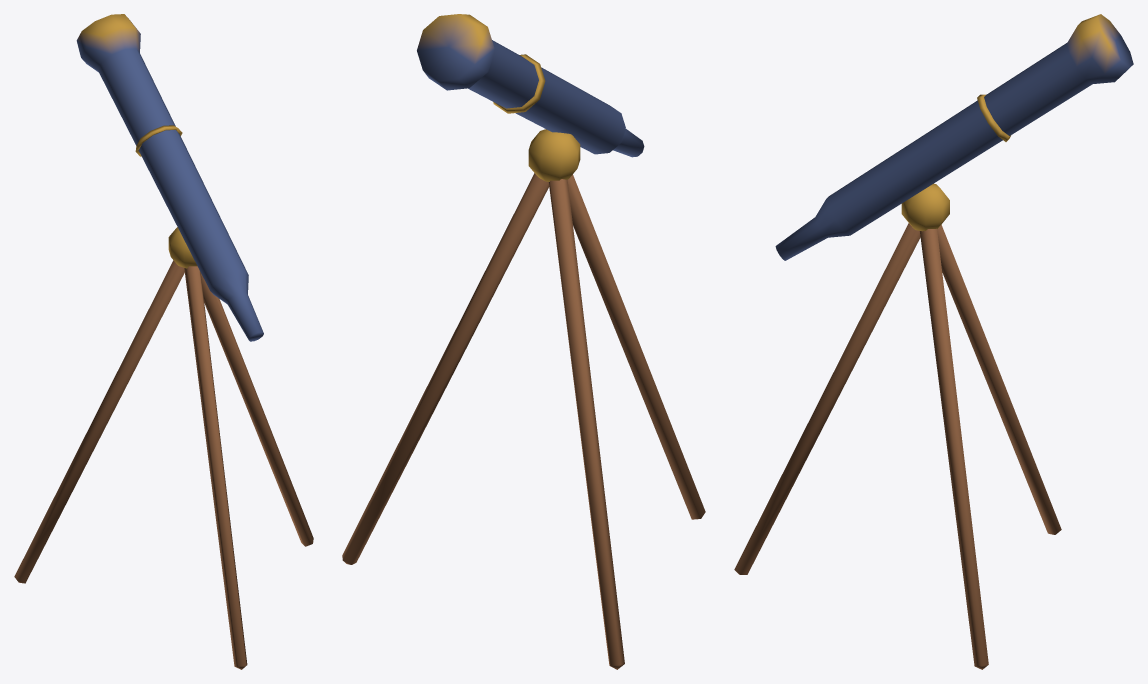
The model's file is telescope.glb.
3 views of the same model, side by side, from view 1: azimuth 30°, elevation 25°; view 2: azimuth 150°, elevation 25°; view 3: azimuth 270°, elevation 25° (orthographic). The views are drawn at different scales.
Visible parts, largest first — view 1: telescope, tube; view 2: telescope, tube; view 3: telescope, tube.
Part boxes in pixels (x1,y1,x2,y2): telescope: [14, 227, 313, 669]; tube: [76, 14, 263, 341]; telescope: [342, 129, 705, 669]; tube: [417, 14, 644, 157]; telescope: [734, 183, 1061, 669]; tube: [775, 14, 1133, 260].
Size of the model in its own units: 0.7905 by 1.51 by 0.9482.
